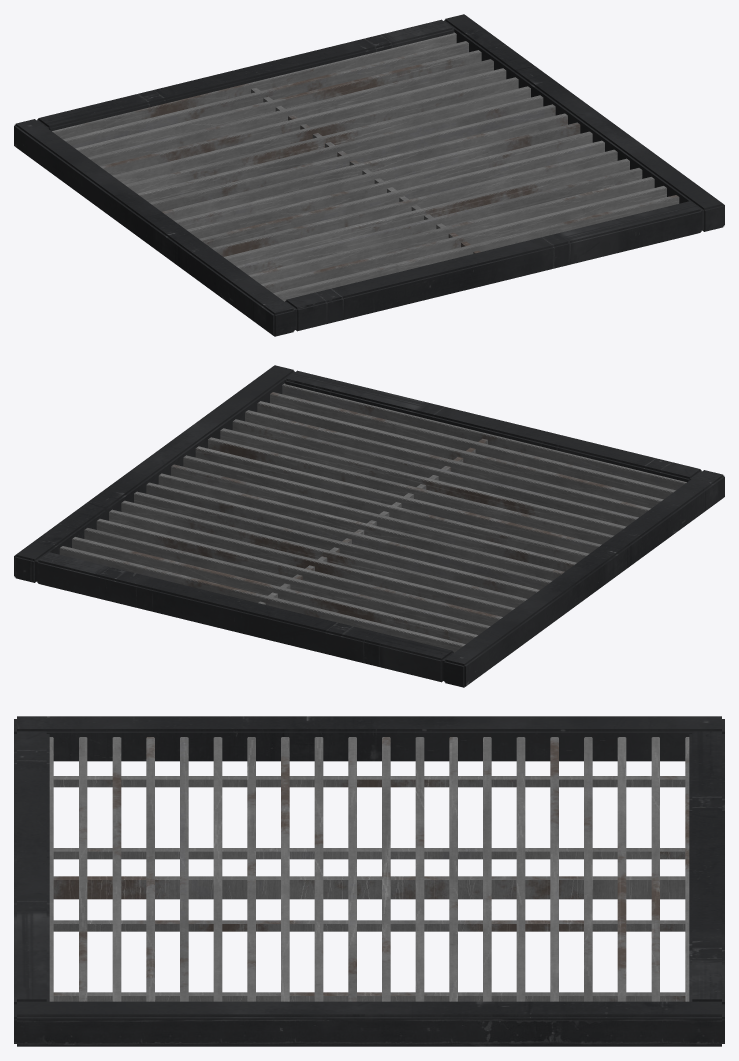
The model's file is floor_grate.gltf.
The picture shows the model from 3 angles, top to bottom: view 1: azimuth 30°, elevation 25°; view 2: azimuth 150°, elevation 25°; view 3: azimuth 270°, elevation 25°; orthographic projection. The views are drawn at different scales.
Parts seen in each view (by area): view 1: Body; view 2: Body; view 3: Body.
Part boxes in pixels (box(x1,y1,x2,y2)): Body: box(14, 14, 724, 336); Body: box(14, 365, 724, 687); Body: box(14, 716, 724, 1046).
Bounding box in the file's own units: 1 × 0.05 × 1.
2 materials, 2 textured.
